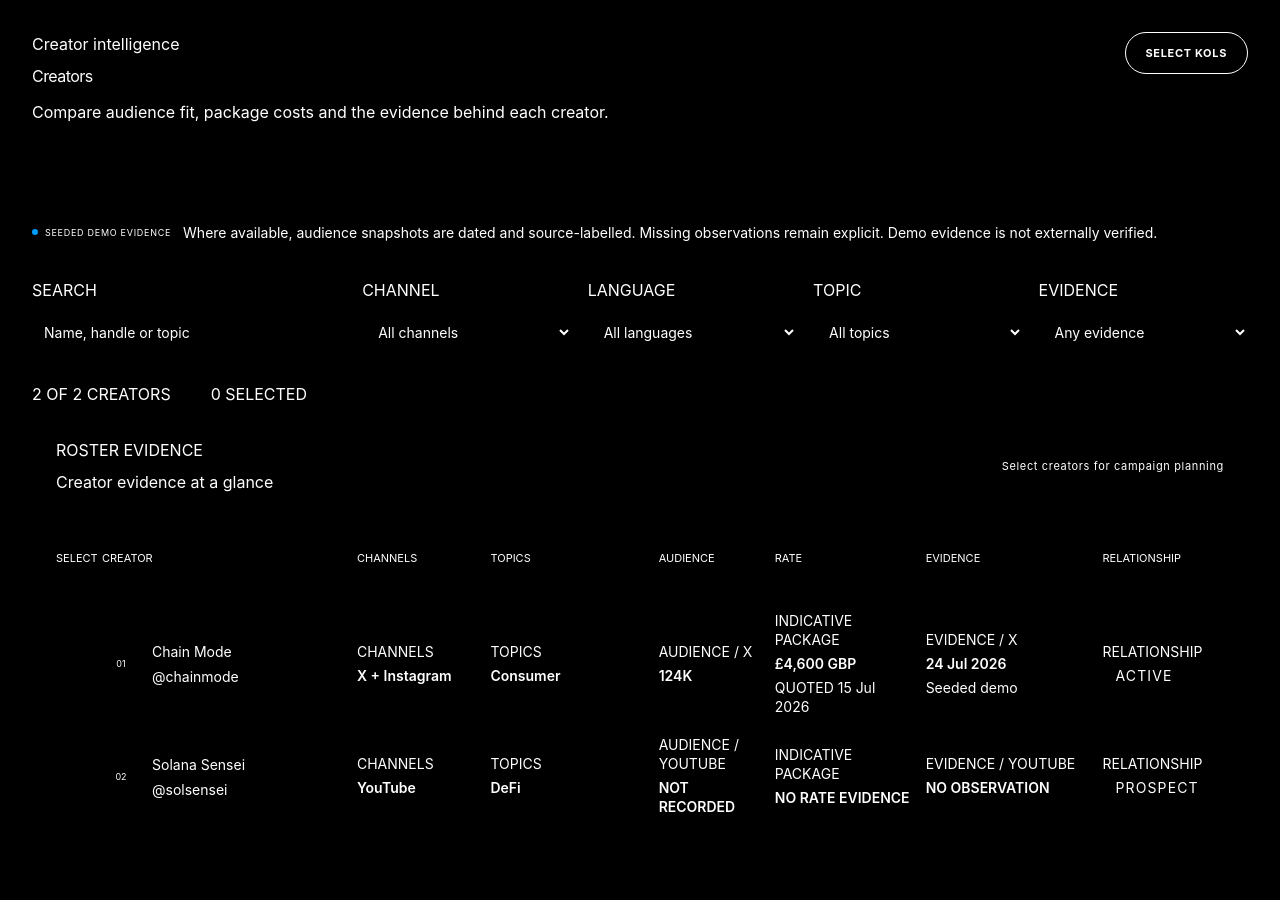
it: CreatorDirectory › filters by channel and explains a no-match result
This screenshot has width=1280, height=900.
Select "YouTube" in the dropdown named "Filter by channel" at {"x": 467, "y": 332}, box [362,310,572,354]
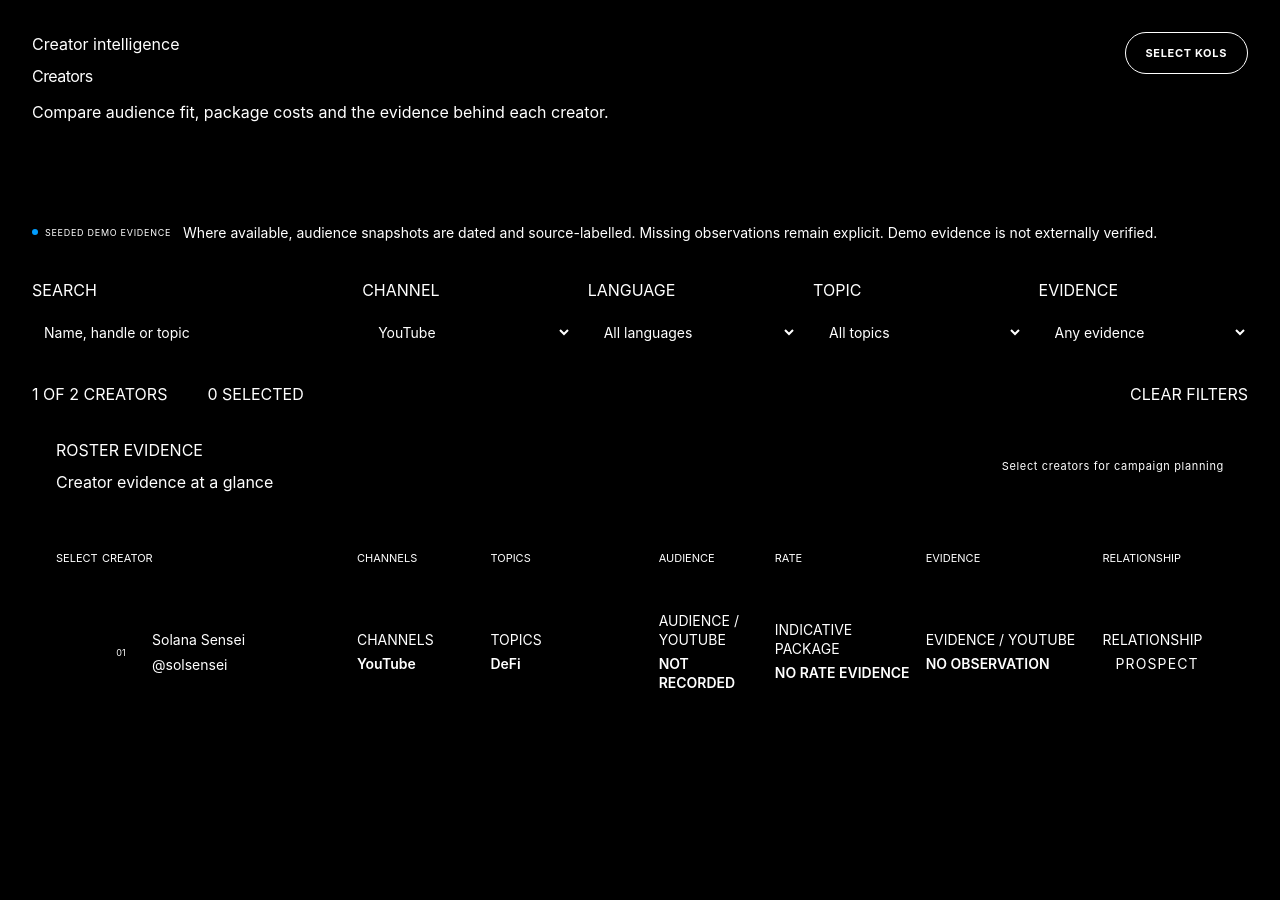
Expected: the text "Solana Sensei" is shown, [152,629,245,650]
Now the button "Chain Mode" is gone
Type "does-not-exist" into the search field named "Search creators".
click(189, 332); type("does-not-exist")  # box [32,310,346,354]
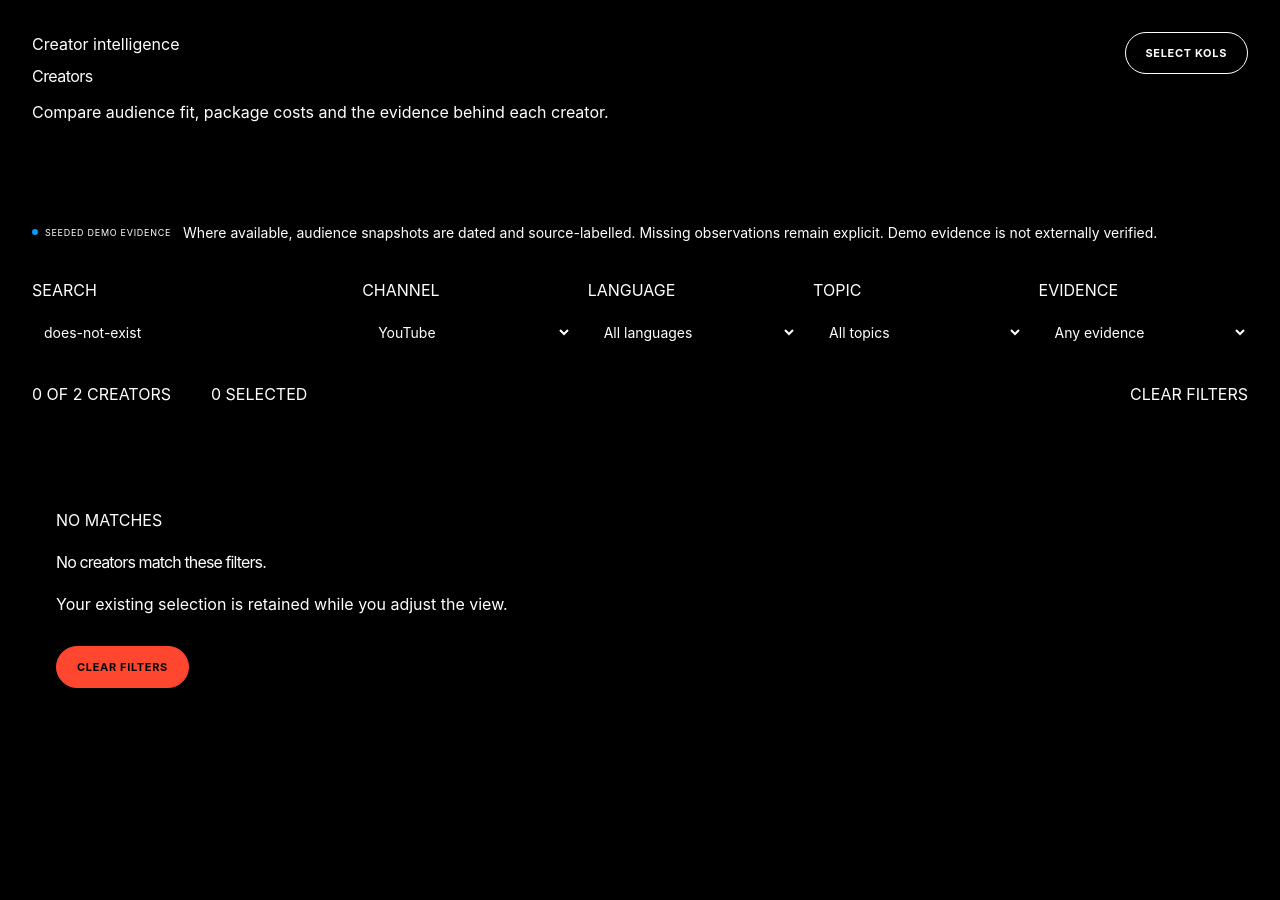
Now the heading "No creators match these filters." is shown, box [56,550,266,574]
Now the text "Your existing selection is retained while you adjust the view." is shown, box [56,592,508,618]
